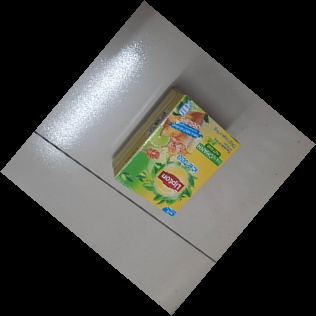LipTon: (113, 88, 240, 219)
